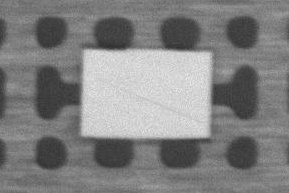DIE_CRACK: (144, 52, 289, 82)
